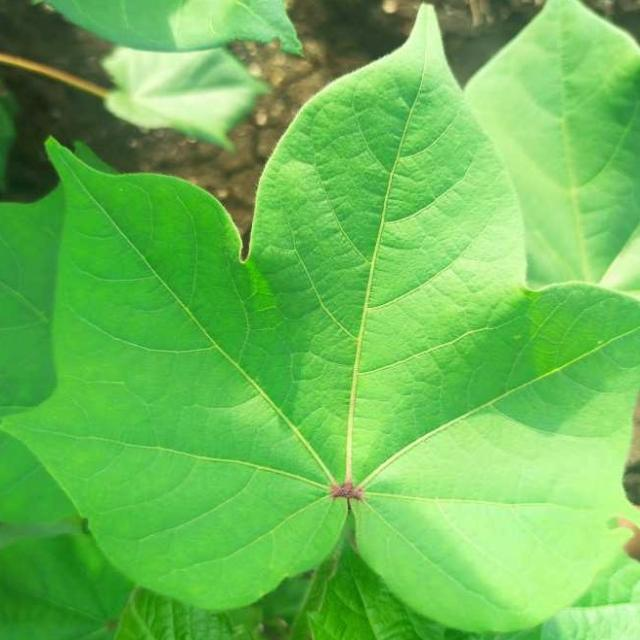Healthy Leaf: (17, 13, 640, 640)
